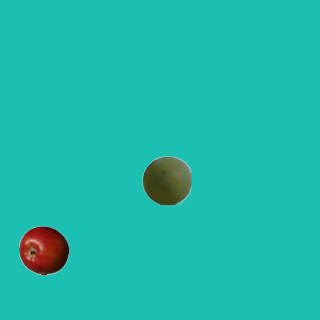Apple Braeburn: (18, 225, 68, 275)
Grape White 4: (141, 155, 191, 205)
